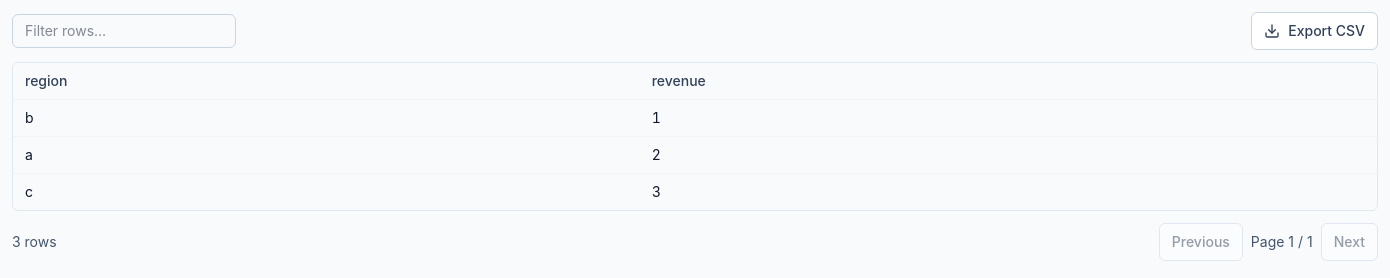
Test: ResultsTable › sorts when a header is clicked and filters rows
Click the button "region" at (46, 81), box x1=25 y1=71 x2=68 y2=91
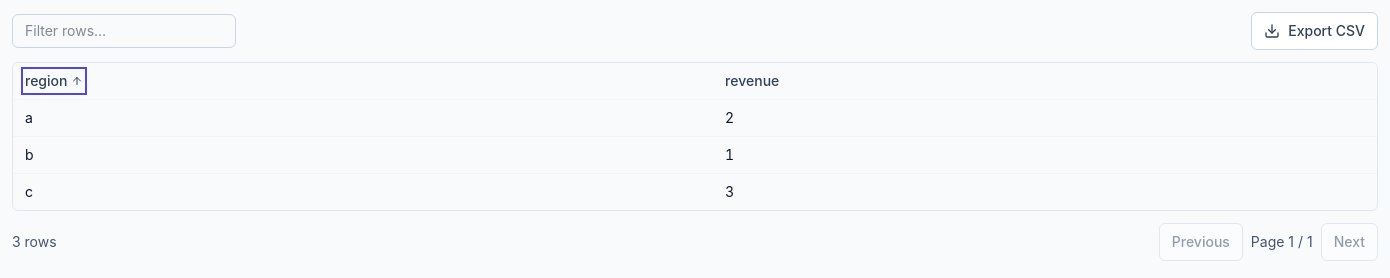
Type "c" into the field labelled "Filter rows" at (124, 31), box x1=12 y1=14 x2=236 y2=48
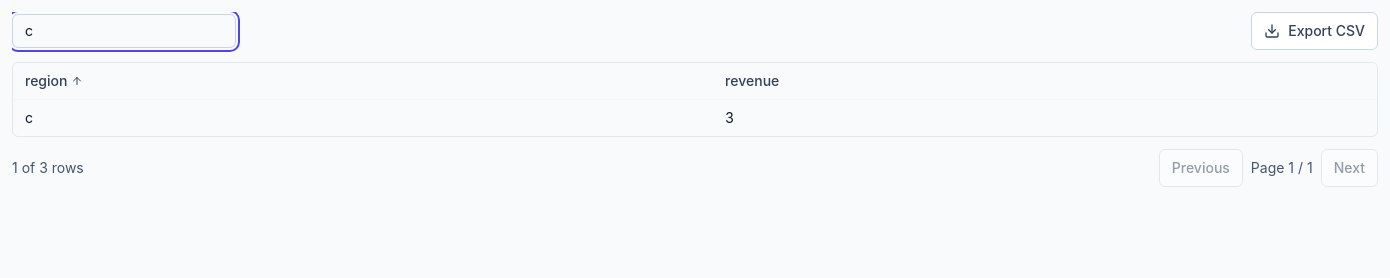
Result: the text "1 of 3 rows" is shown at x1=12 y1=158 x2=84 y2=178
